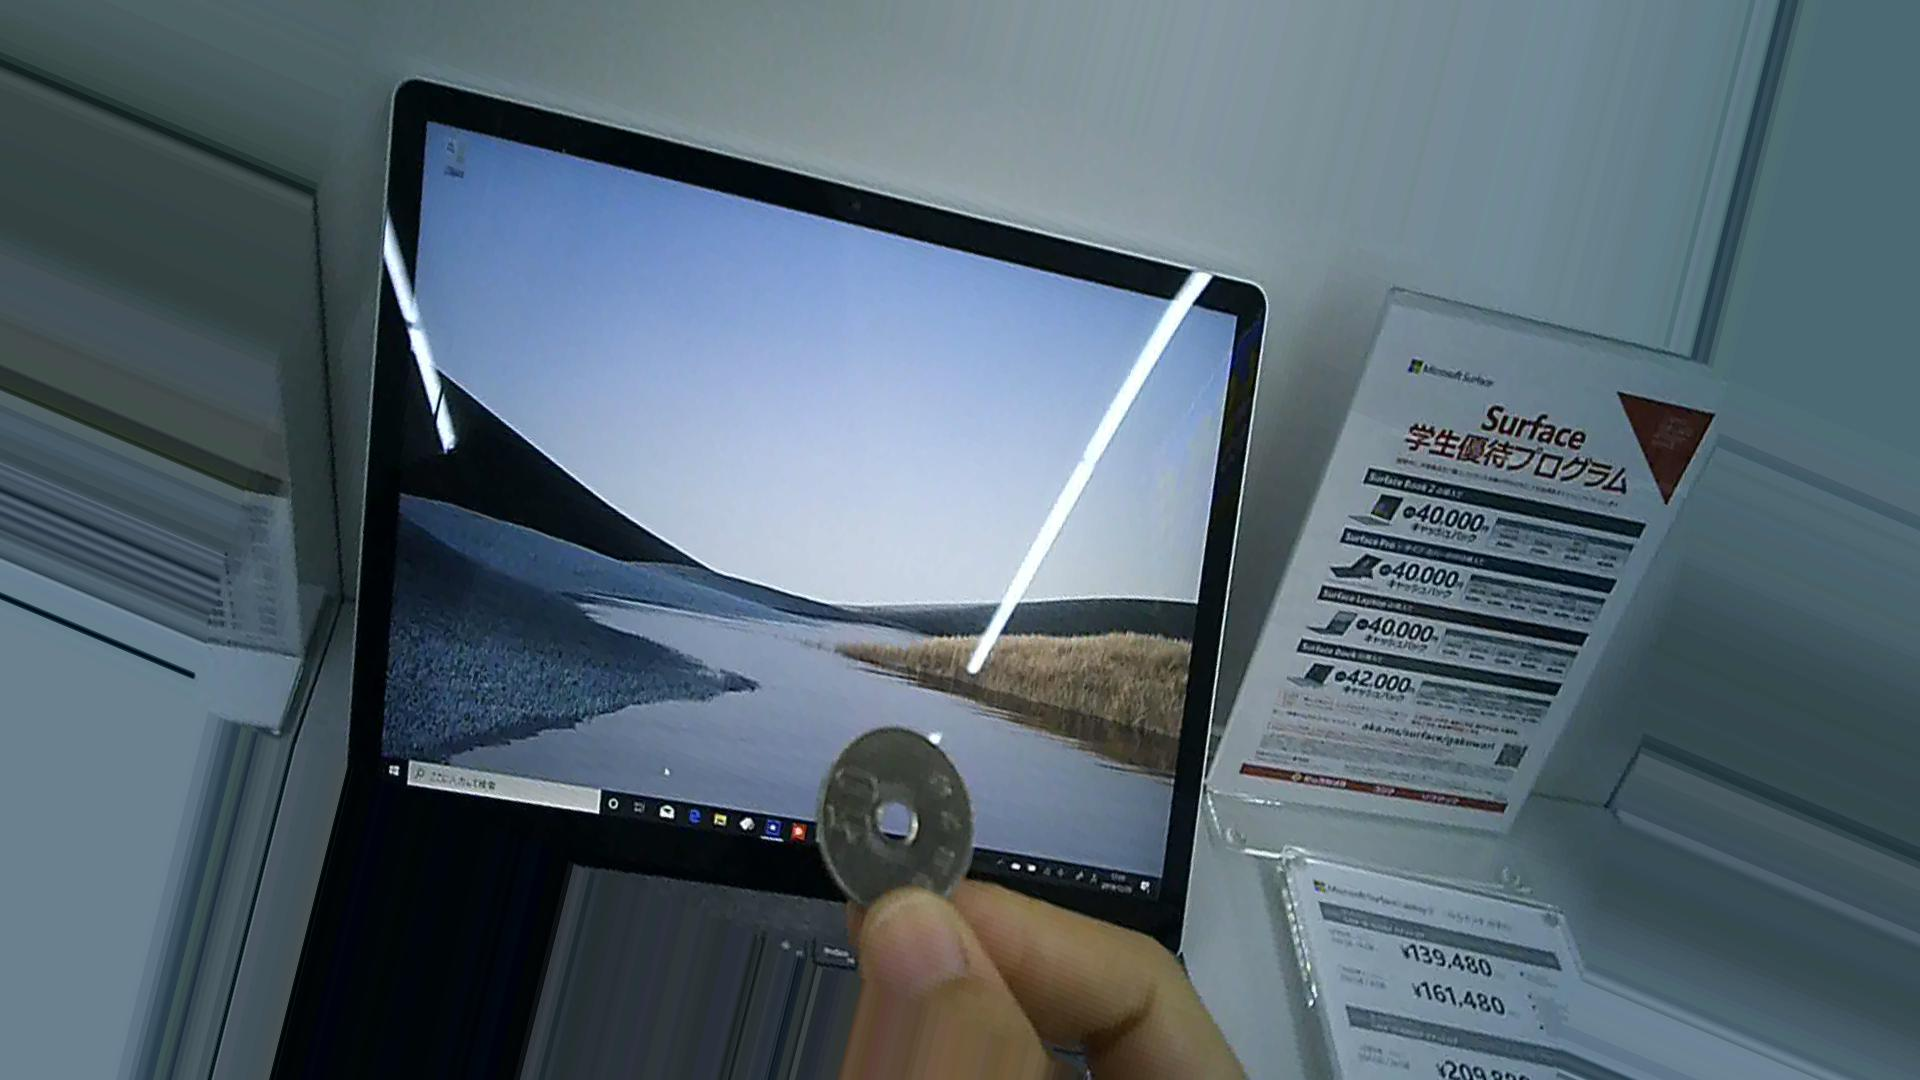50 Yen: (822, 724, 978, 924)
